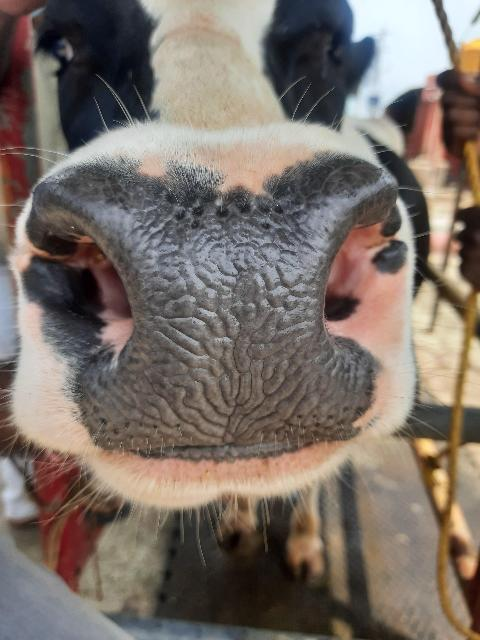Muzzle: (128, 203, 328, 431)
